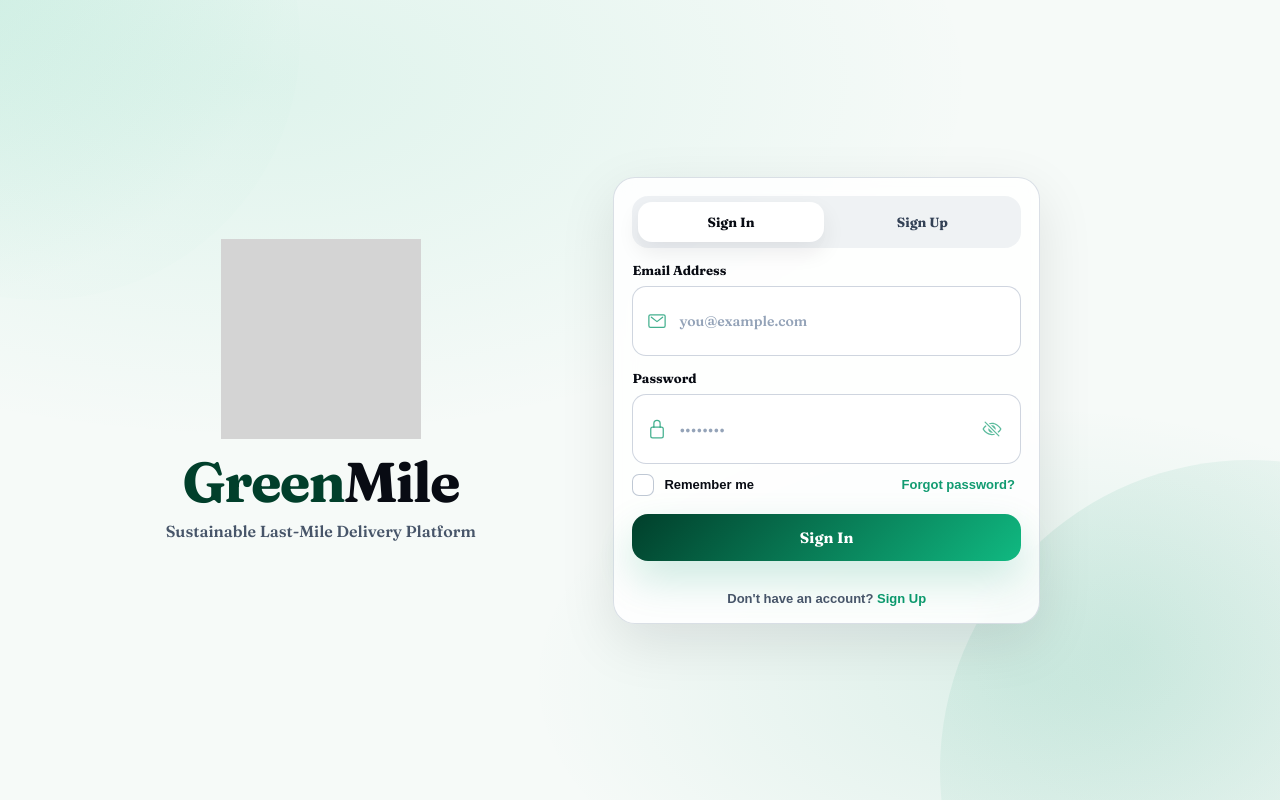
Email validation › shows error when email is empty on submit
Type "somepass" into the password field with placeholder "••••••••".
click(823, 428); type("somepass")  # box [677,418,968,438]
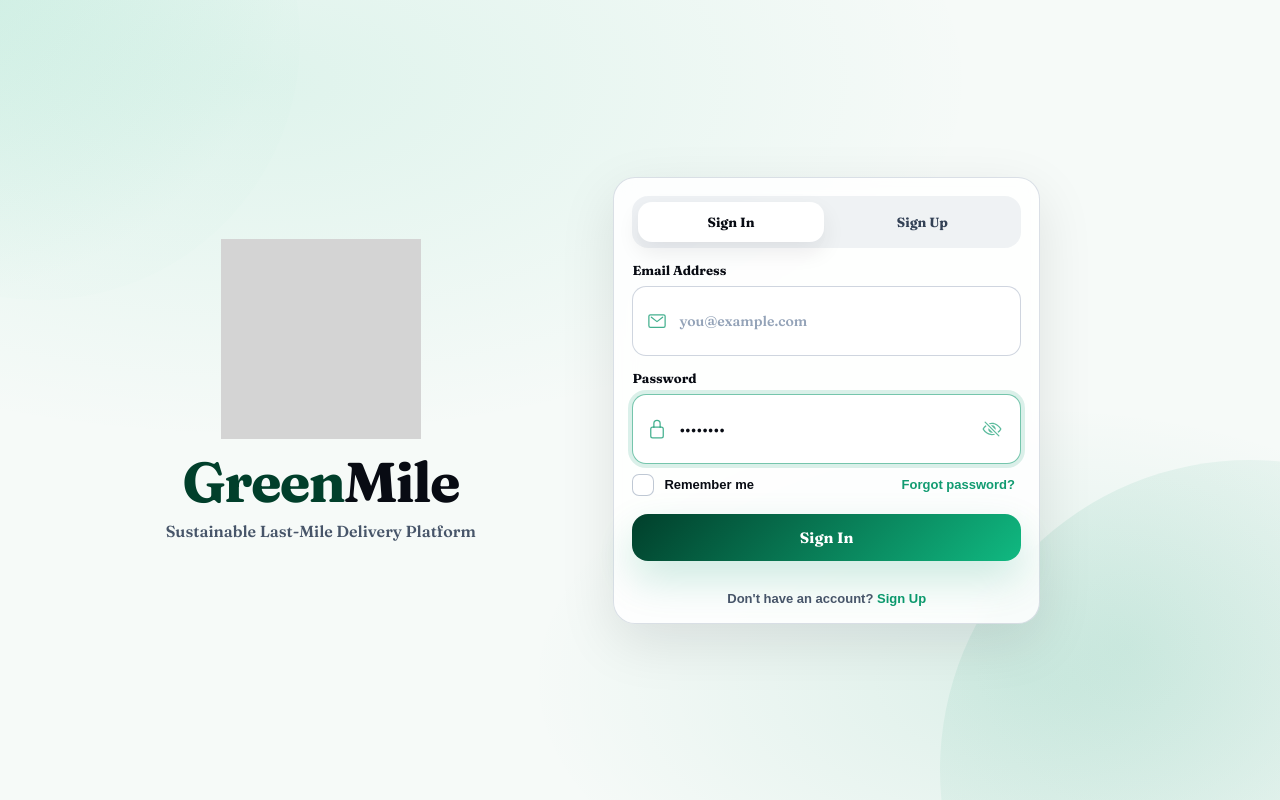
Click the button with class "gm-submit".
click(827, 537)  # box [632,514,1021,560]
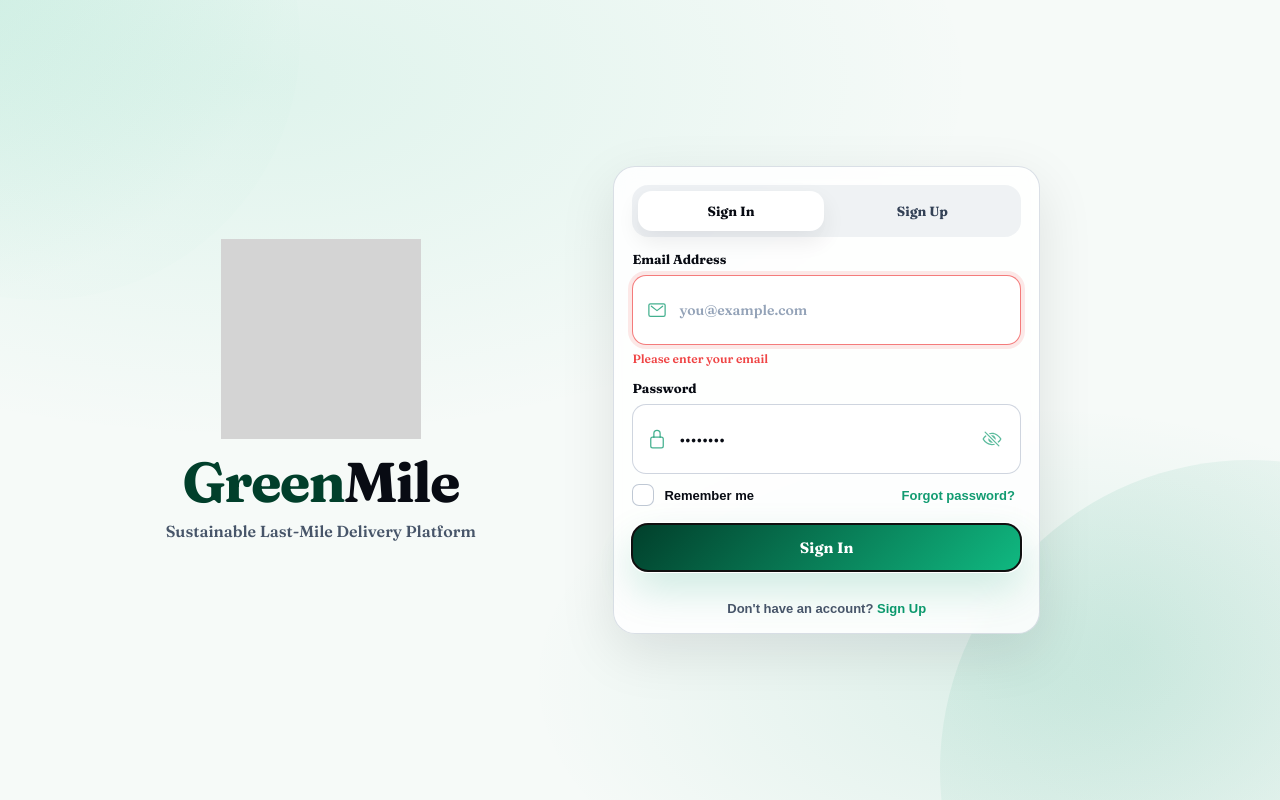
Check: the text "Please enter your email" is shown, box [632,351,768,366]
